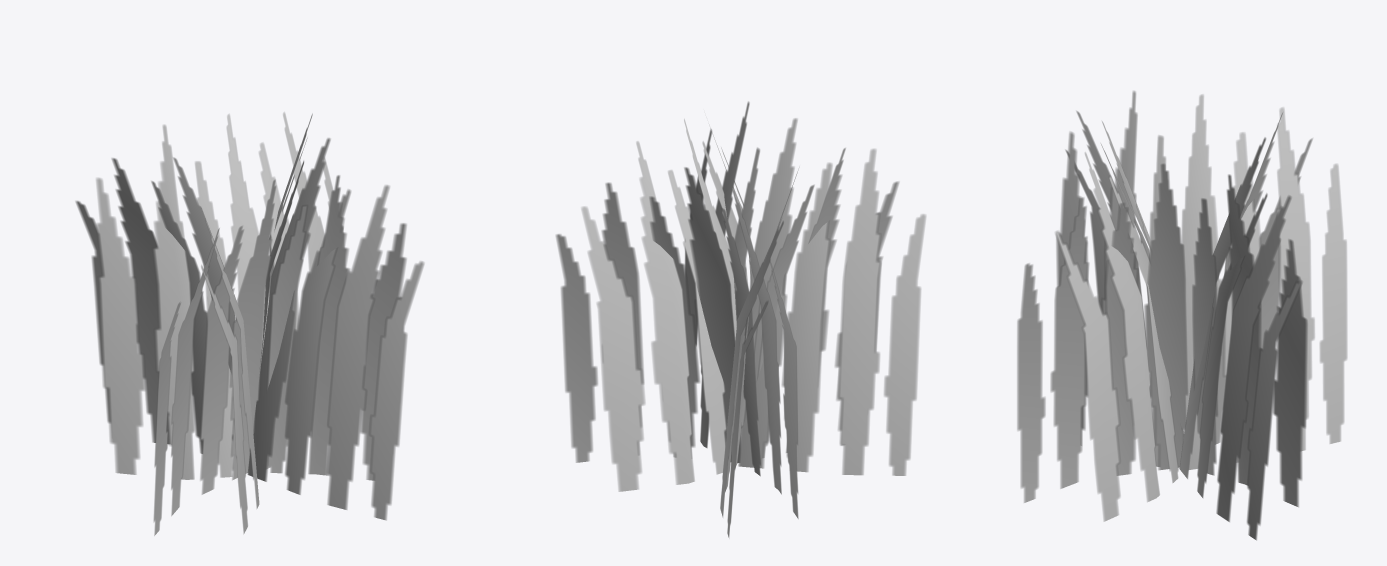
File: grass_px_1.glb
3 views of the same model, side by side, from view 1: azimuth 30°, elevation 25°; view 2: azimuth 150°, elevation 25°; view 3: azimuth 270°, elevation 25° (orthographic). The views are drawn at different scales.
Parts seen in each view (by area): view 1: grass_px; view 2: grass_px; view 3: grass_px.
Part boxes in pixels (box(x1,y1,x2,y2)): grass_px: box(75, 112, 424, 535); grass_px: box(556, 101, 925, 537); grass_px: box(1017, 91, 1347, 540).
Size of the model in its own units: 0.8323 by 0.9178 by 0.8217.
1 material, 1 textured.
